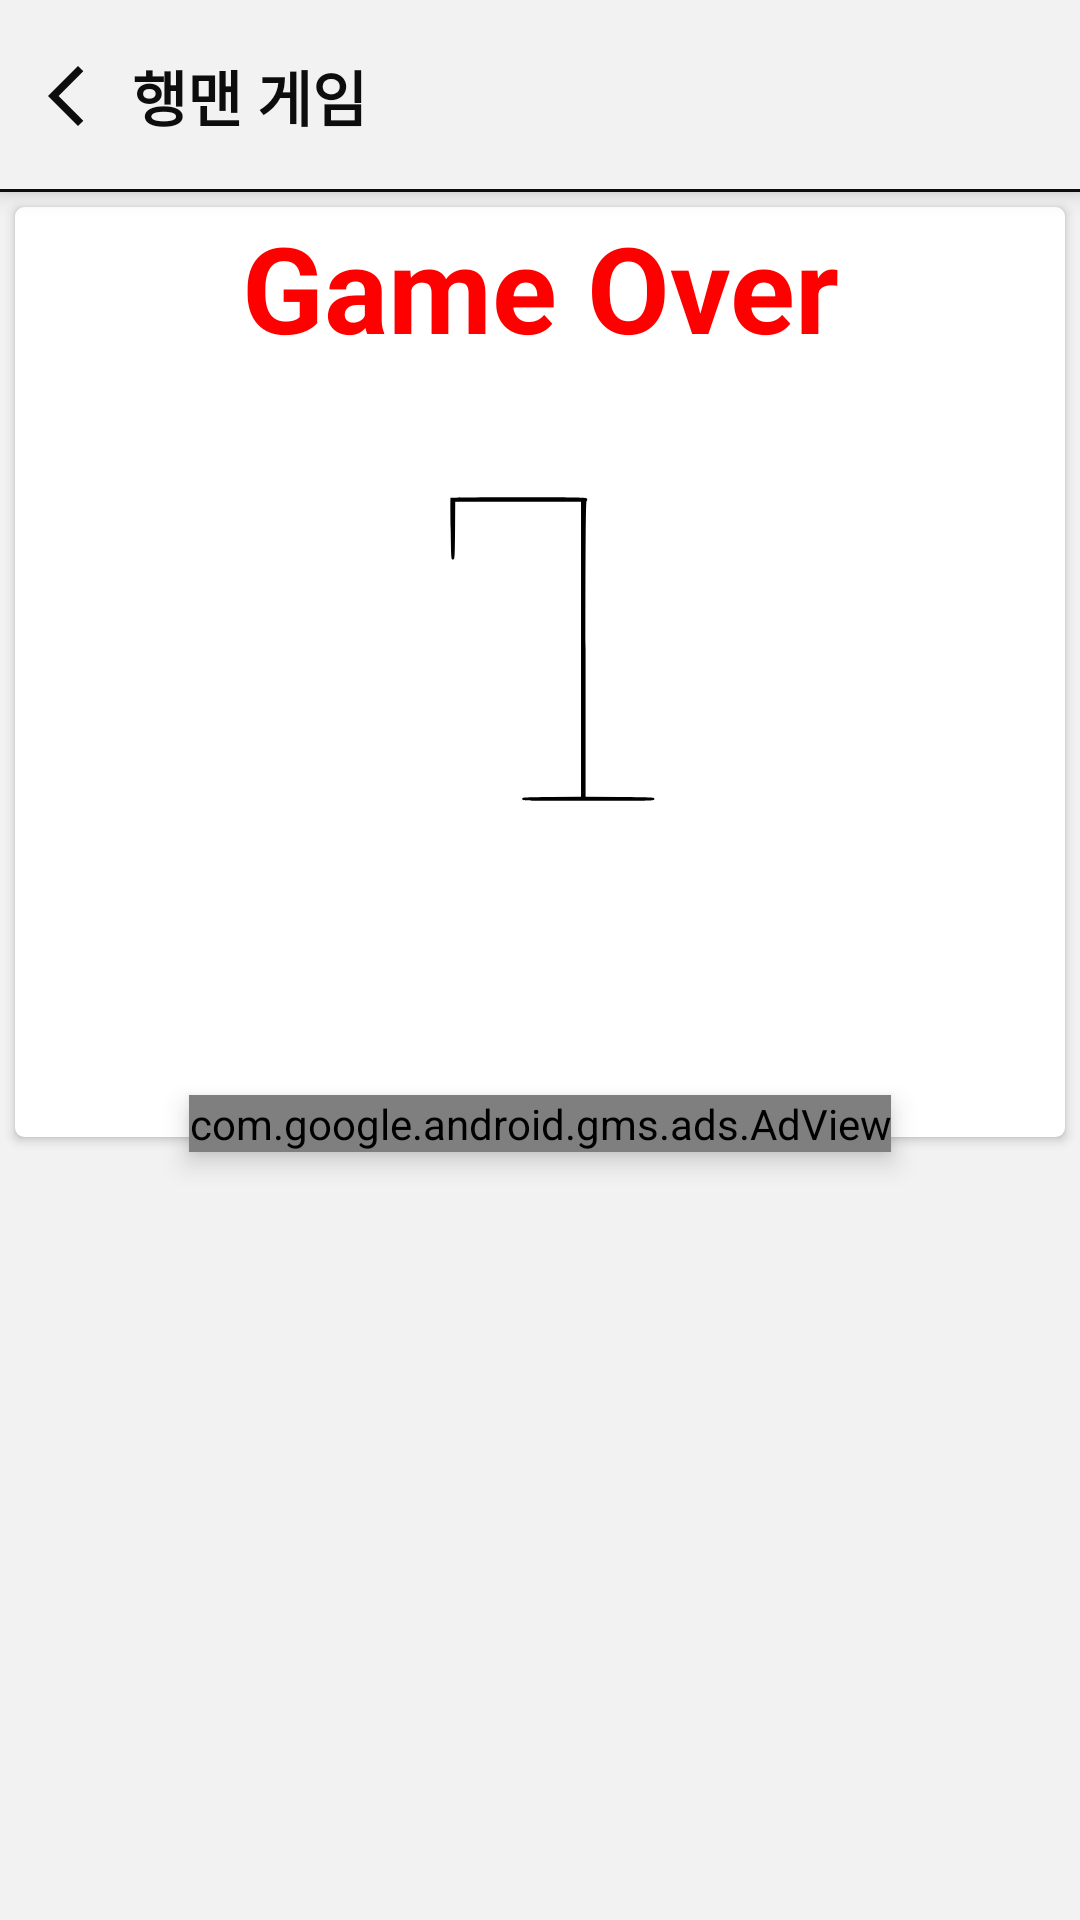

Icon click points for this 1080 × 1920 phone screenshot, format point (x, y):
arrow back: point (65, 96)
